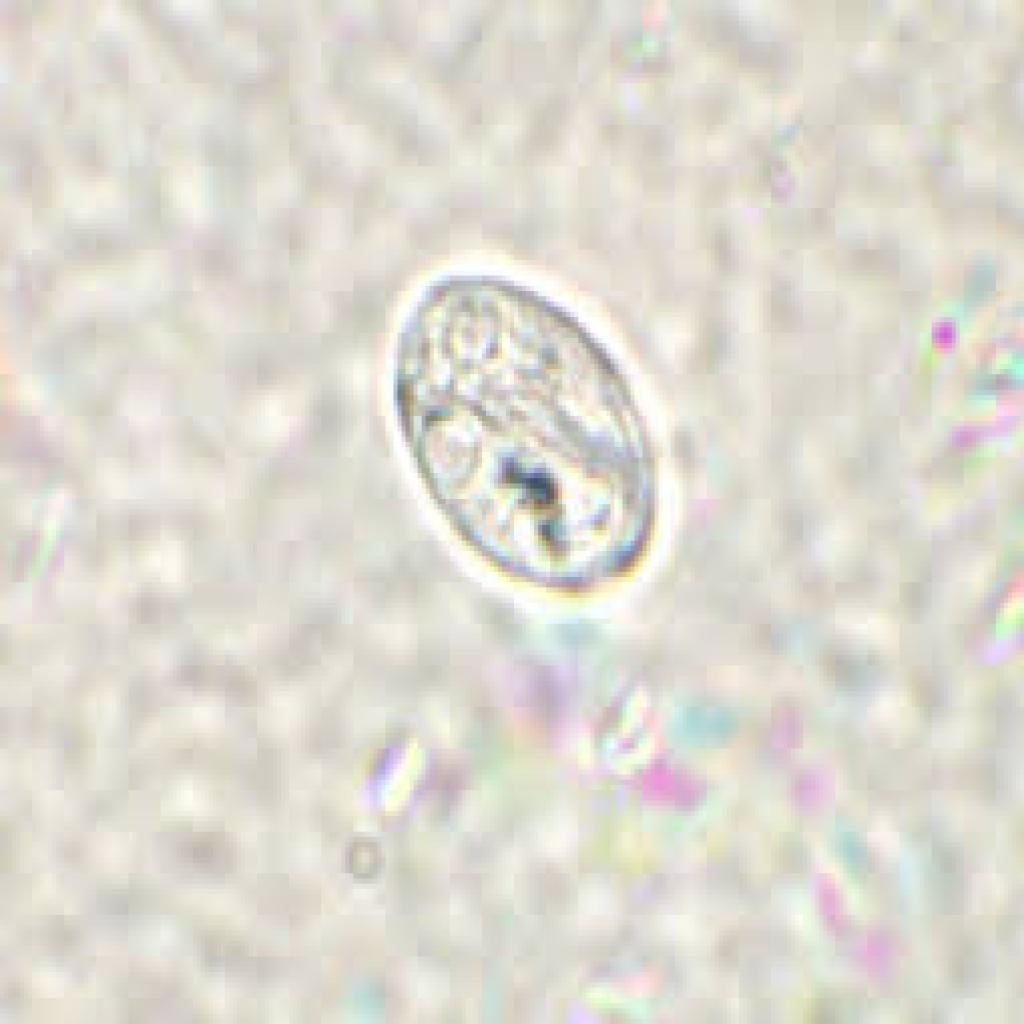Giardia: (378, 249, 666, 598)
